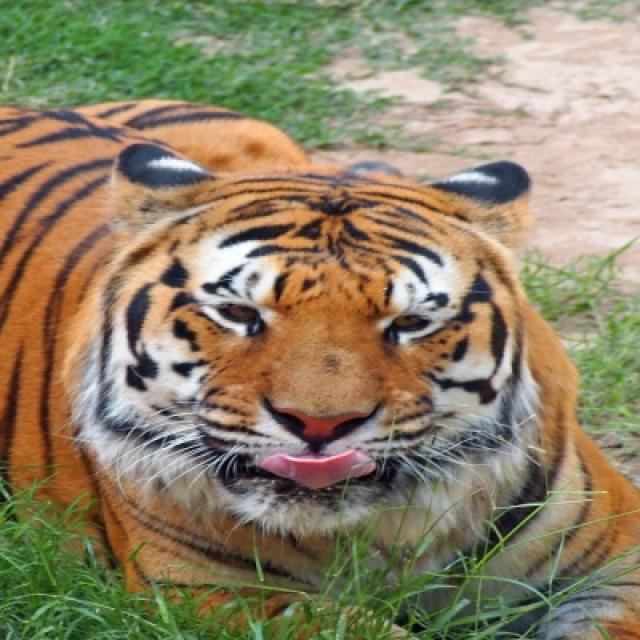Tiger: (0, 101, 638, 638)
